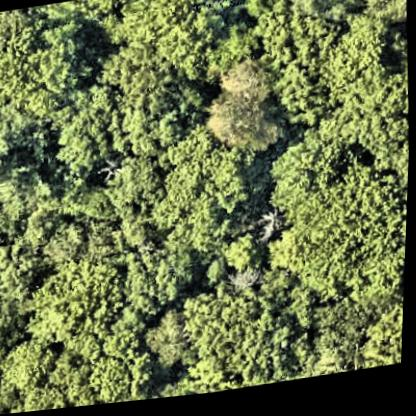tree-top: (276, 172, 410, 305), (99, 0, 211, 140), (175, 282, 289, 392), (152, 135, 257, 252), (27, 257, 138, 361), (0, 5, 82, 136), (48, 83, 128, 186), (205, 60, 285, 162), (107, 0, 219, 66), (245, 0, 344, 67), (268, 142, 340, 232), (331, 87, 411, 165), (321, 11, 396, 91), (125, 244, 200, 319), (1, 334, 67, 408), (0, 236, 46, 336), (0, 166, 54, 251), (305, 307, 366, 381), (265, 63, 324, 138), (104, 159, 169, 216), (141, 311, 194, 378), (357, 308, 406, 377), (34, 363, 103, 412), (94, 349, 151, 407), (216, 232, 264, 284), (353, 0, 409, 37), (47, 221, 87, 268), (116, 212, 156, 253)
